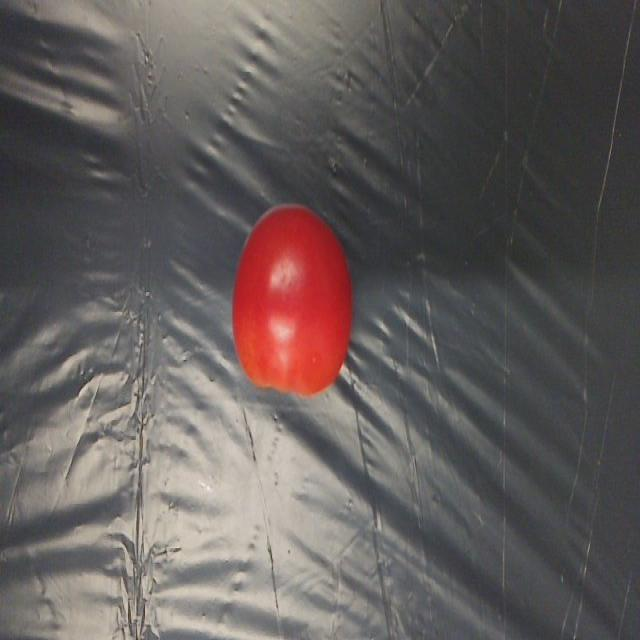kirmizi: (233, 192, 360, 400)
